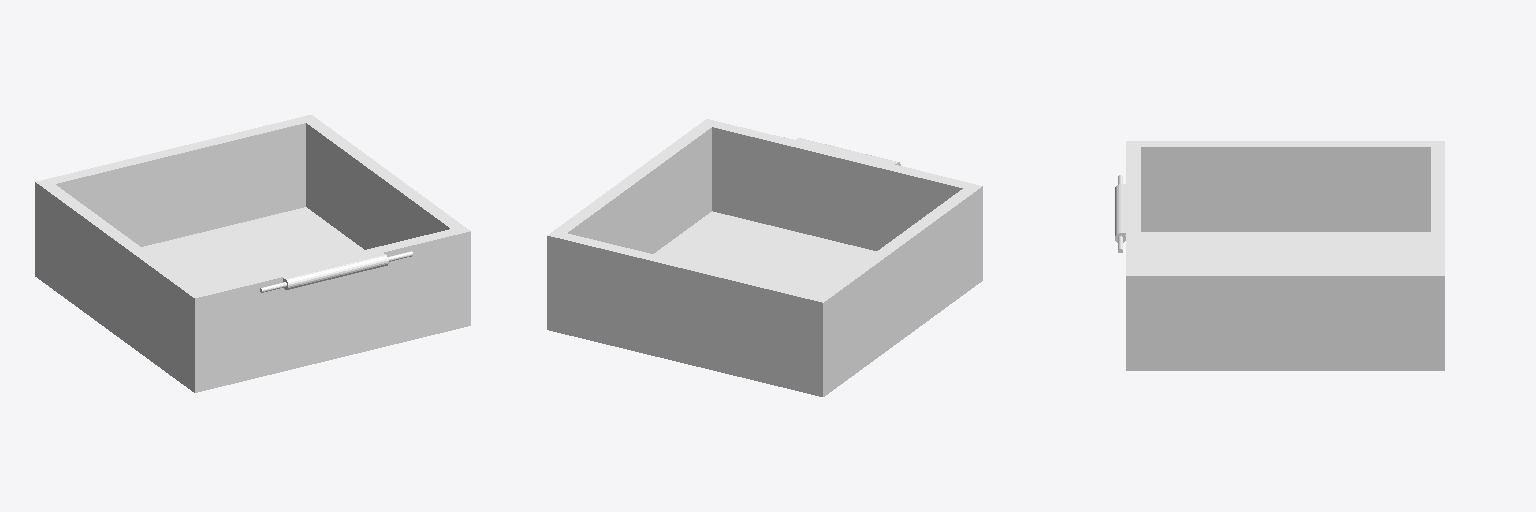
Rendered from closed-box_base2.obj.
3 renders of one model, left to right at view 1: azimuth 30°, elevation 25°; view 2: azimuth 150°, elevation 25°; view 3: azimuth 270°, elevation 25°, orthographic.
Parts seen in each view (by area): view 1: Base_boite; view 2: Base_boite; view 3: Base_boite.
Boxes of the visible parts, <box> form: Base_boite: <box>35,115,470,392</box>; Base_boite: <box>547,119,982,396</box>; Base_boite: <box>1115,141,1444,370</box>.
Size of the model in its own units: 550 by 180 by 570.